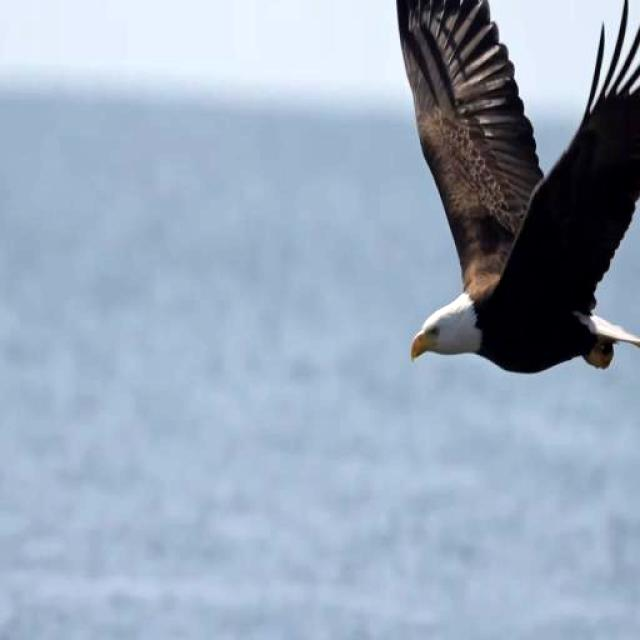airplane: (382, 0, 640, 402)
